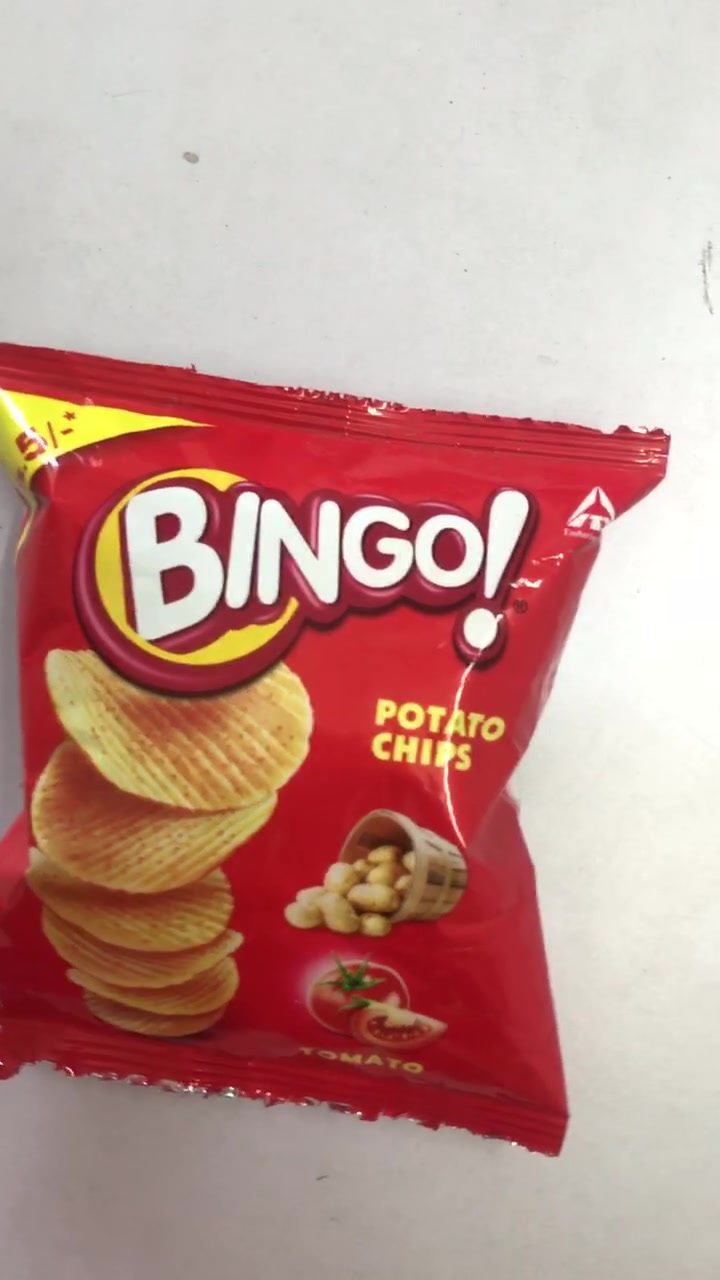Bingo: (5, 345, 667, 1159)
